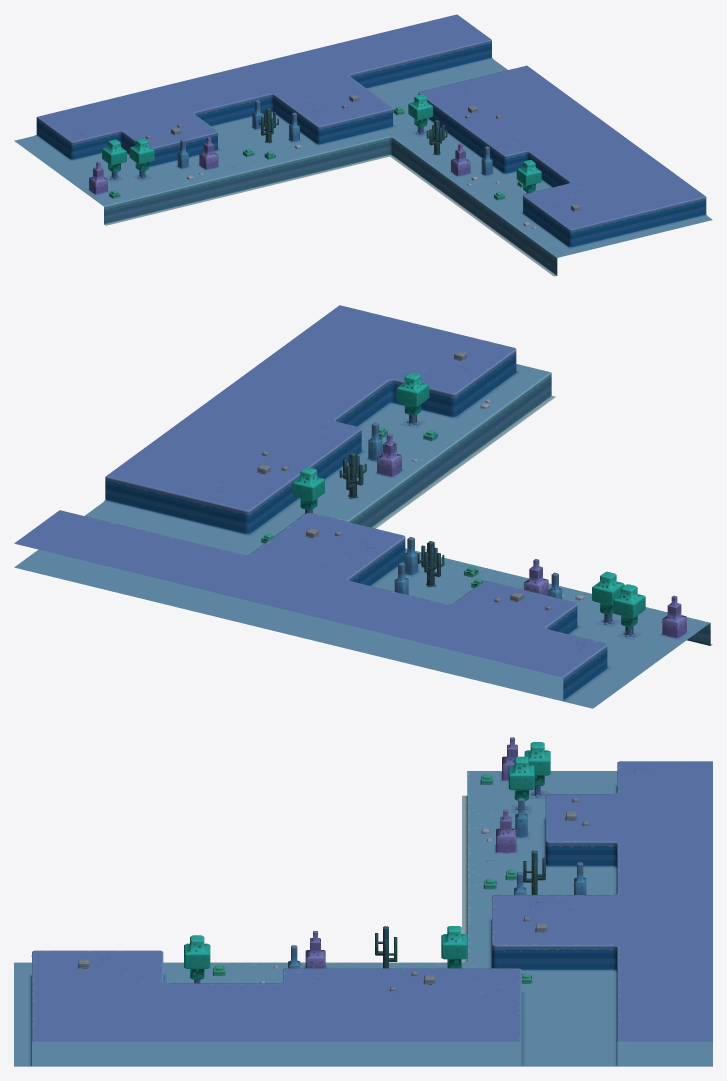
Rendered from C_mountain2_out_LD.fbx.
The picture shows the model from 3 angles, top to bottom: view 1: azimuth 30°, elevation 25°; view 2: azimuth 150°, elevation 25°; view 3: azimuth 270°, elevation 25°; orthographic projection. The views are drawn at different scales.
Visible parts, largest first — view 1: C_mountain2_out_LD.001; view 2: C_mountain2_out_LD.001; view 3: C_mountain2_out_LD.001.
Part boxes in pixels (x1=…): C_mountain2_out_LD.001: x1=14, y1=14, x2=712, y2=276; C_mountain2_out_LD.001: x1=14, y1=305, x2=712, y2=708; C_mountain2_out_LD.001: x1=14, y1=737, x2=712, y2=1066.
Bounding box in the file's own units: 117 × 13.92 × 117.
